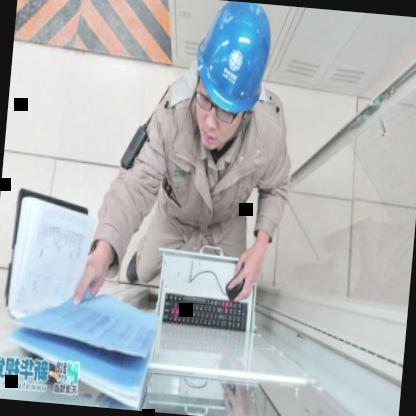helmet: (181, 0, 279, 167)
